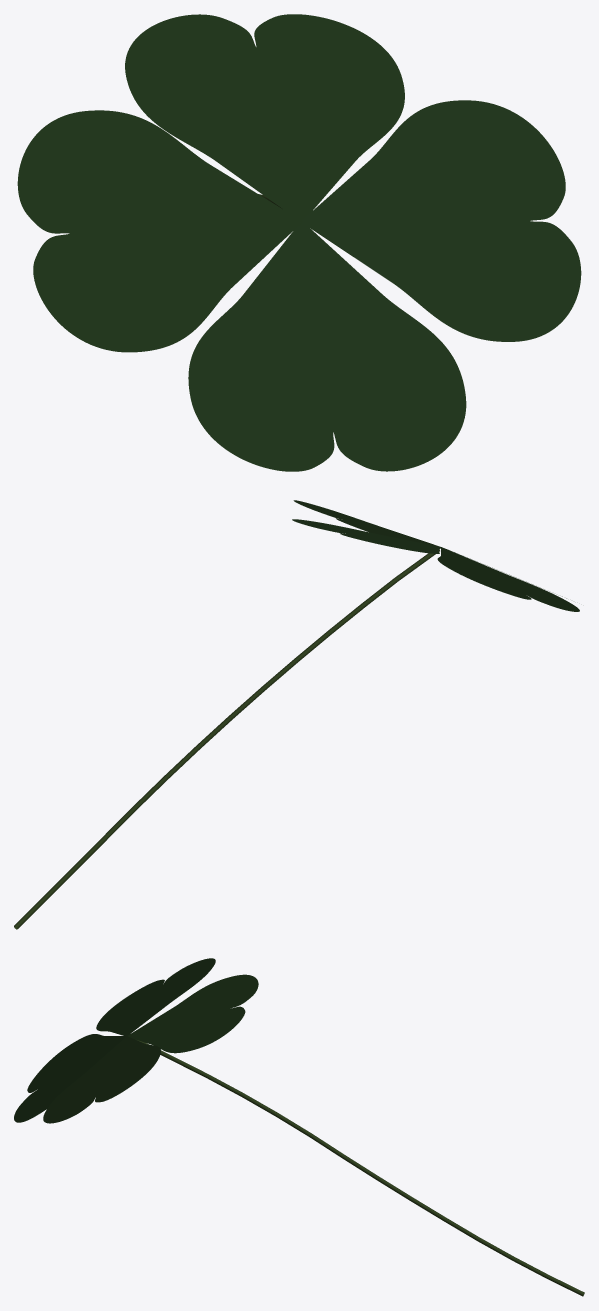
File: RazgovorClover_01.FBX
3 renders of one model, top to bottom at view 1: azimuth 30°, elevation 25°; view 2: azimuth 150°, elevation 25°; view 3: azimuth 270°, elevation 25°, orthographic. The views are drawn at different scales.
Visible parts, largest first — view 1: Line005; view 2: Line005; view 3: Line005.
Part boxes in pixels (bbox=[...]): Line005: bbox=[17, 14, 581, 471]; Line005: bbox=[14, 500, 579, 929]; Line005: bbox=[14, 958, 584, 1296].
Size of the model in its own units: 0.00418 by 0.00378 by 0.00791.
